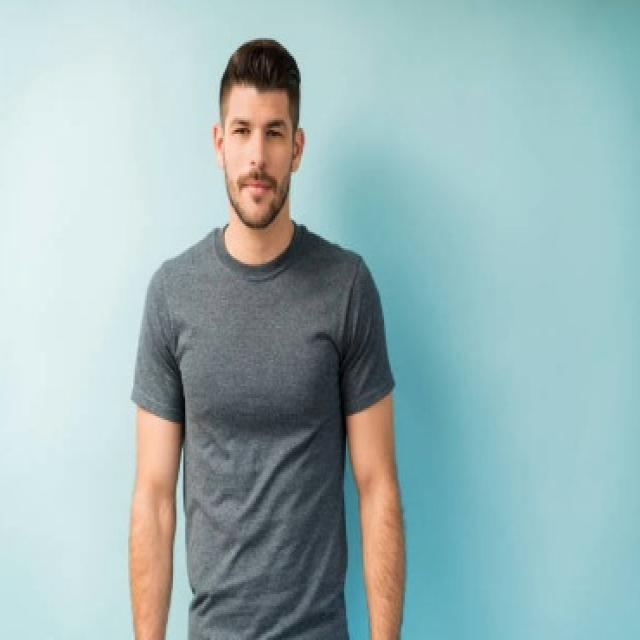adult: (106, 34, 400, 640)
